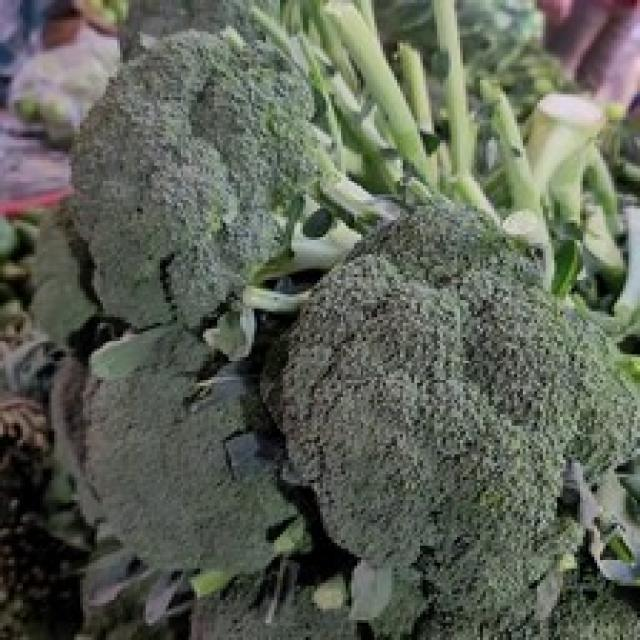Broccoli: (262, 204, 638, 640), (264, 204, 638, 640), (39, 31, 315, 574), (72, 31, 318, 329), (52, 324, 299, 574)
